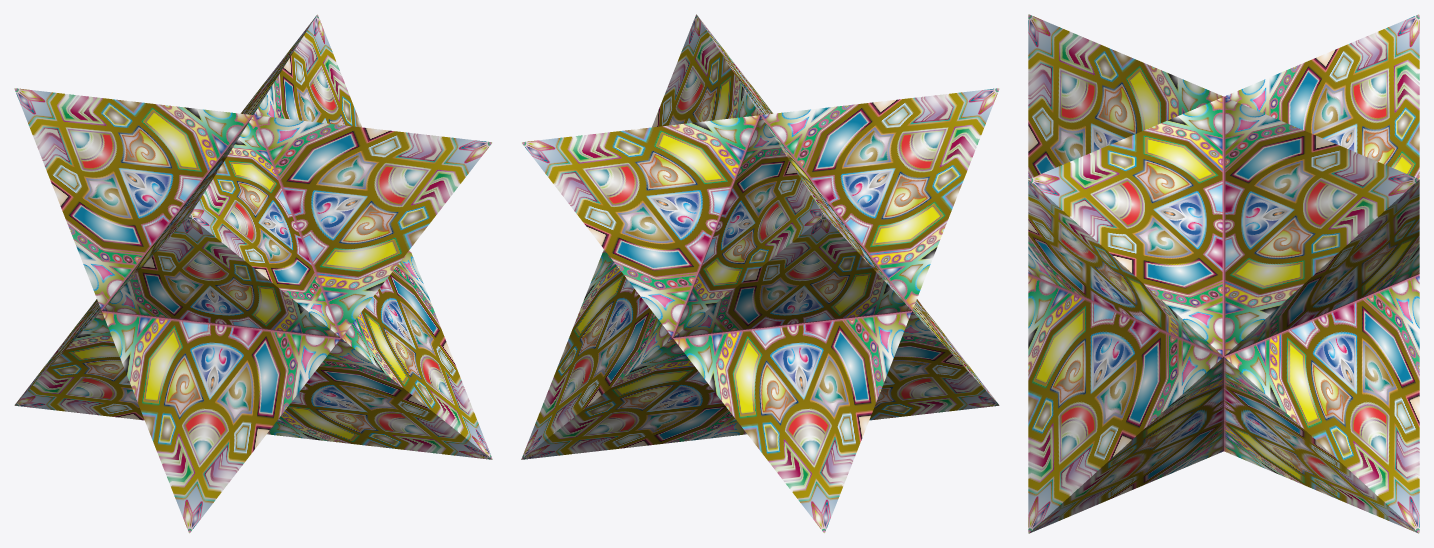
File: 6StellaOctangula.obj
3 views of the same model, side by side, from view 1: azimuth 30°, elevation 25°; view 2: azimuth 150°, elevation 25°; view 3: azimuth 270°, elevation 25° (orthographic). The views are drawn at different scales.
Size of the model in its own units: 0.7071 by 0.7071 by 0.7071.
1 material, 1 textured.
